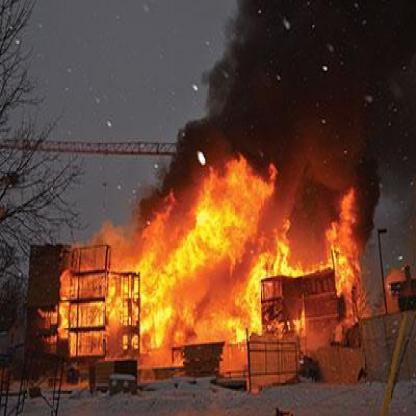fire: (58, 139, 366, 380)
smoke: (208, 12, 408, 170)
